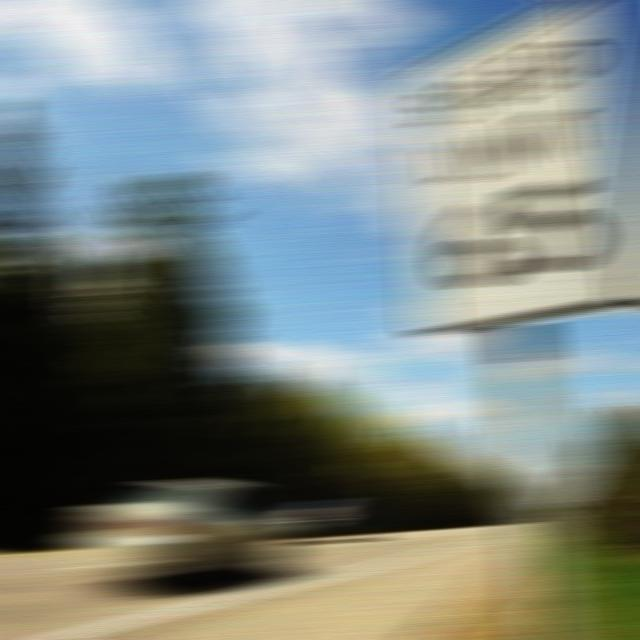speedLimit65: (419, 7, 608, 330)
